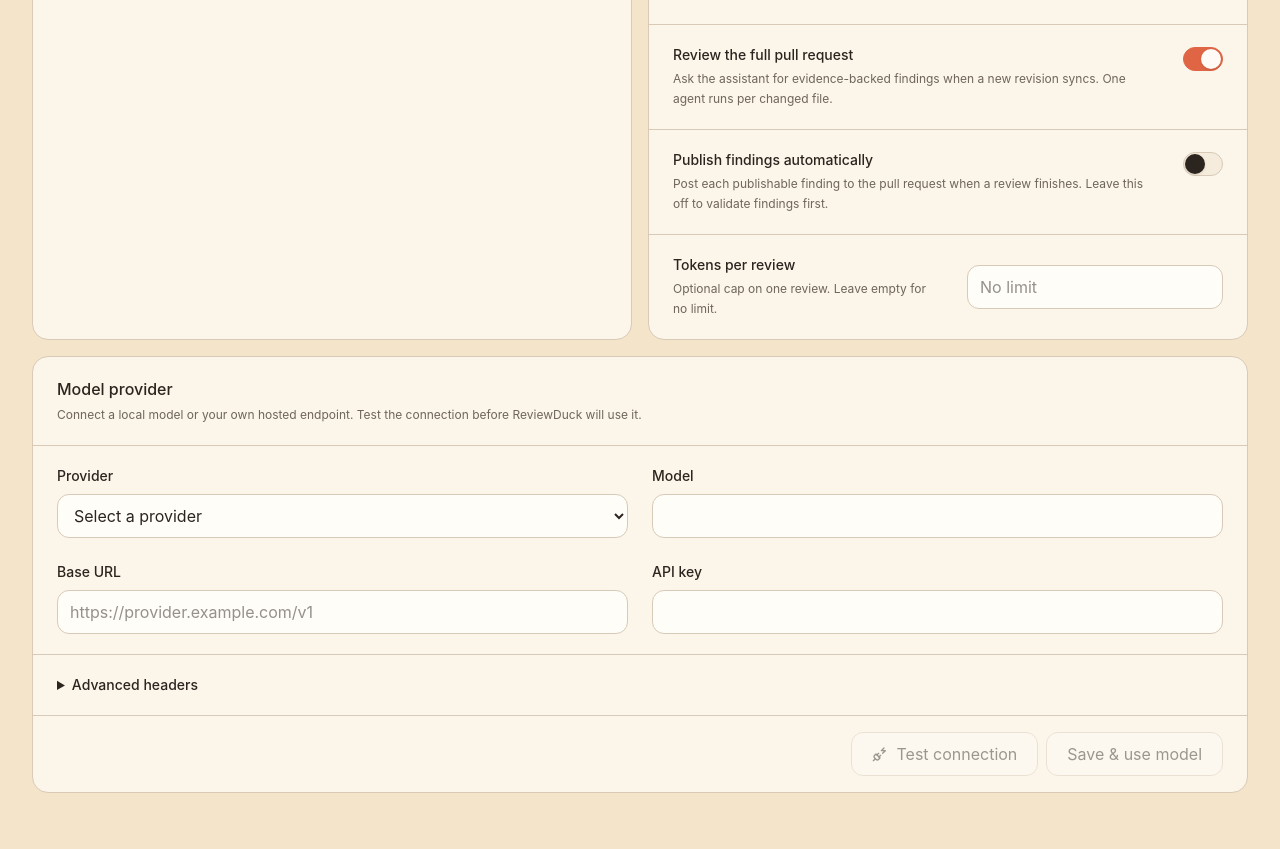
Test: LocalAiSettings › guides Bedrock and Azure AI Foundry OpenAI-compatible setup
(page scrolled)
Select "Amazon Bedrock" in the dropdown labelled "Provider" at (342, 516), box [57,494,628,538]
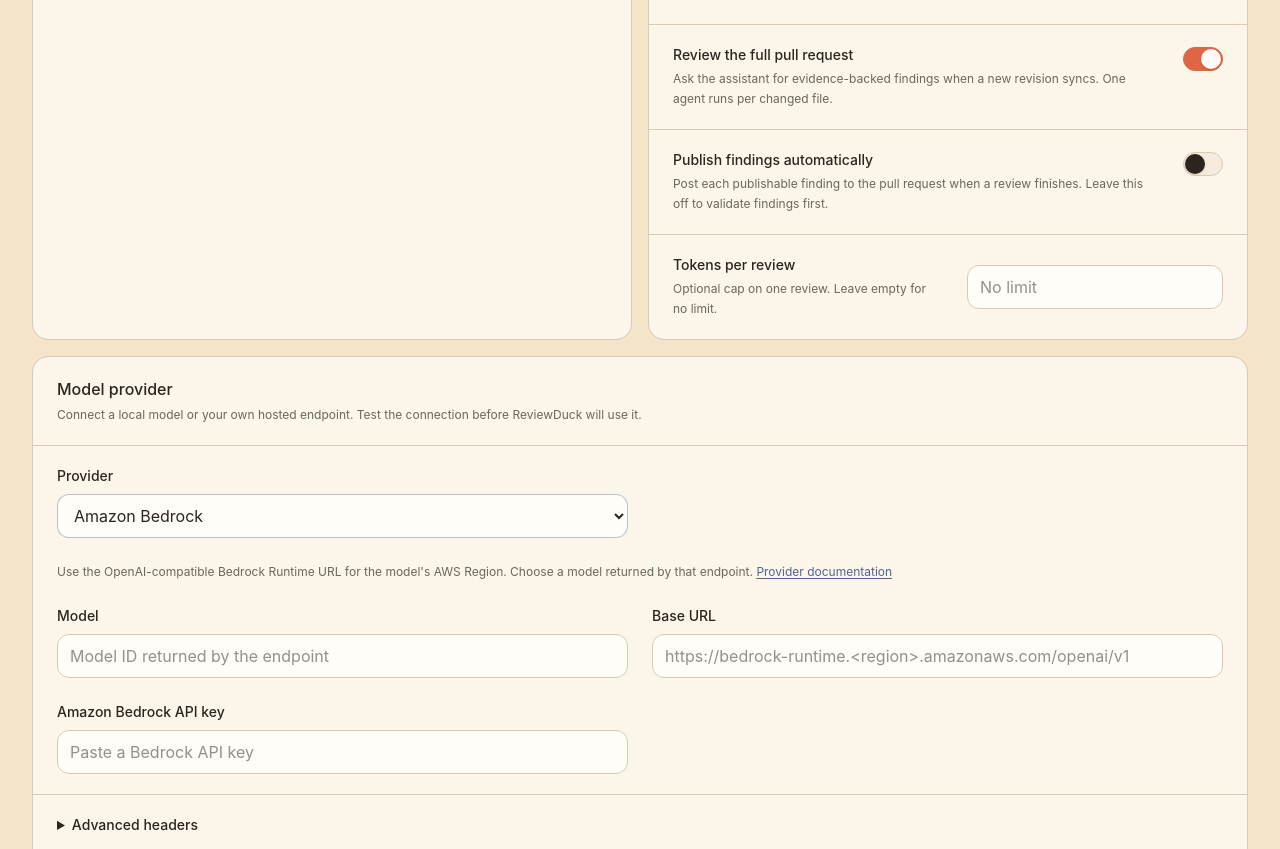
Now the field with placeholder "https://bedrock-runtime.<region>.amazonaws.com/openai/v1" is shown, box [652,634,1223,678]
Now the text "model's AWS Region" is shown, box [57,564,753,579]
Select "Azure AI Foundry" in the dropdown labelled "Provider" at (342, 516), box [57,494,628,538]
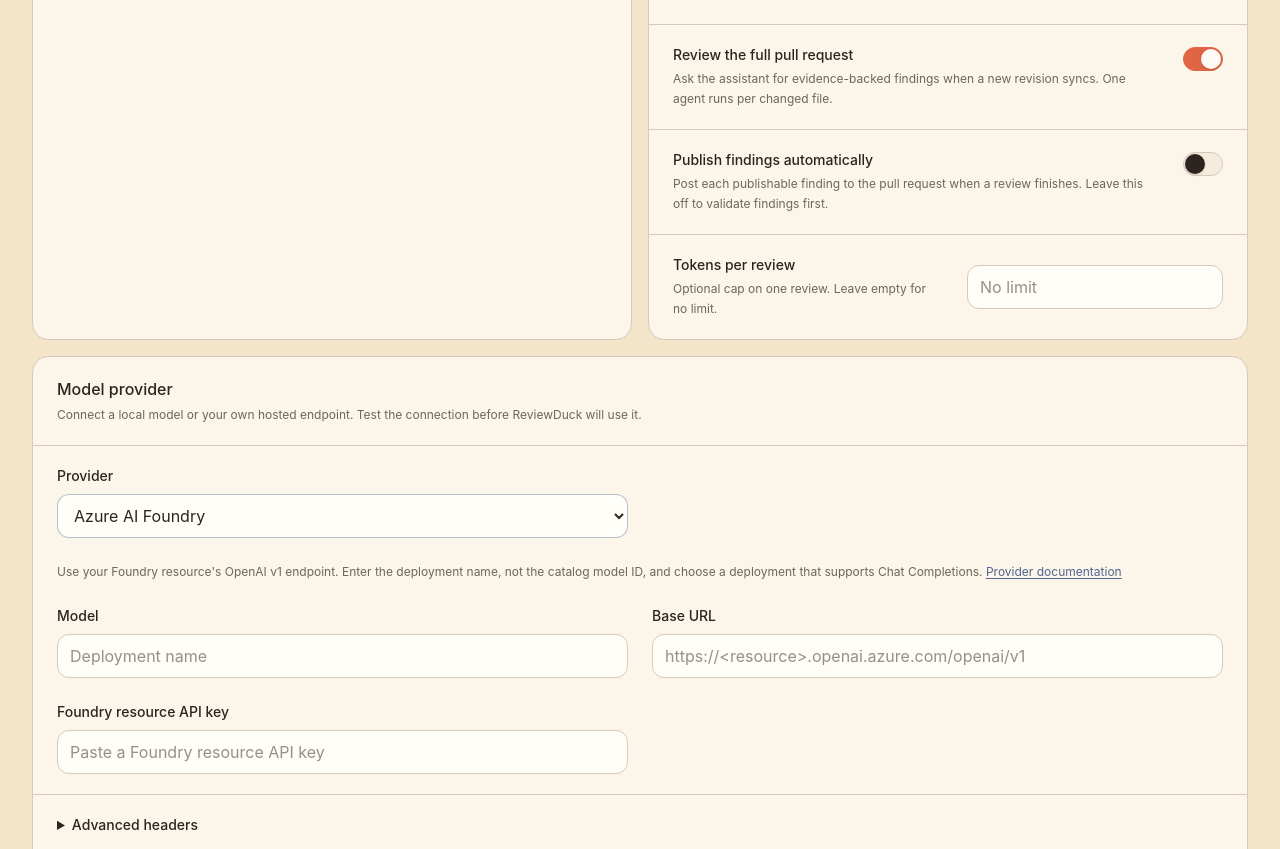
Now the field with placeholder "https://<resource>.openai.azure.com/openai/v1" is shown, box [652,634,1223,678]
Now the field with placeholder "Deployment name" is shown, box [57,634,628,678]
